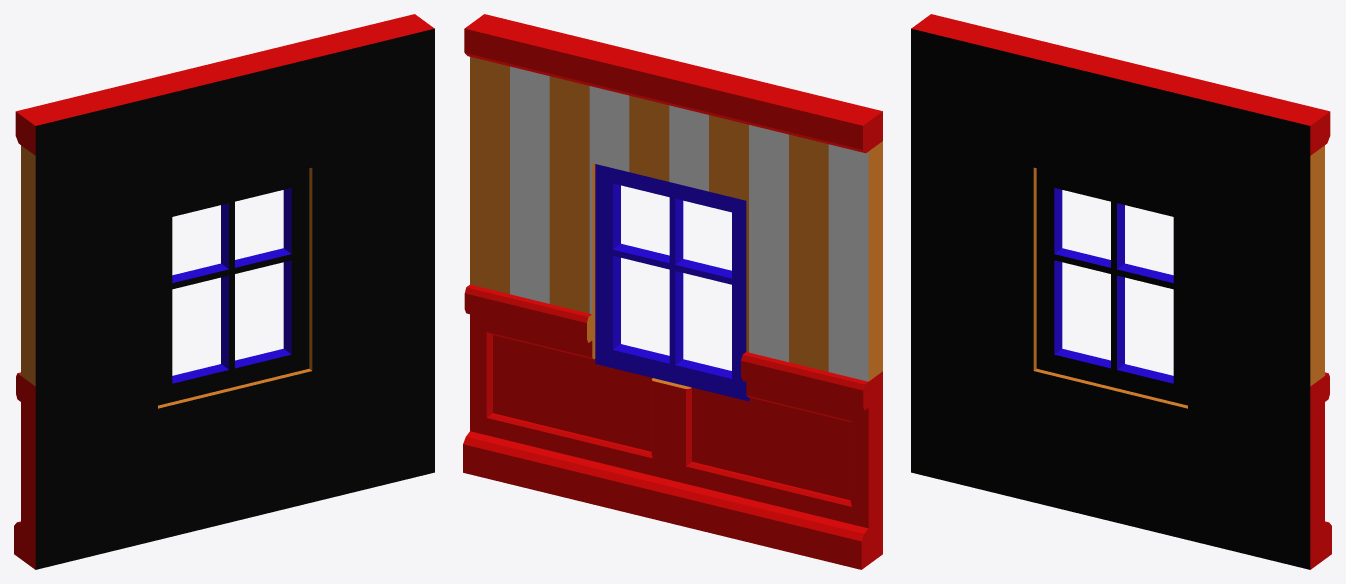
Rendered from Wall_Window_2.fbx.
The picture shows the model from 3 angles, left to right: view 1: azimuth 30°, elevation 25°; view 2: azimuth 150°, elevation 25°; view 3: azimuth 330°, elevation 25°; orthographic projection.
Parts seen in each view (by area): view 1: Cube.022; view 2: Cube.022; view 3: Cube.022.
Part boxes in pixels (x1,y1,x2,y2): Cube.022: [14, 14, 434, 569]; Cube.022: [463, 14, 882, 569]; Cube.022: [911, 14, 1331, 569].
Size of the model in its own units: 4 by 0.3715 by 4.25.
